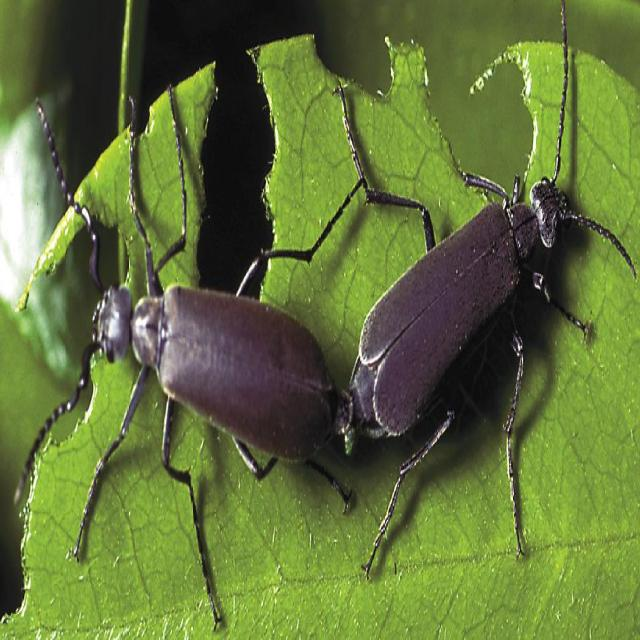BlisterBeetle-Adult-: (27, 39, 342, 609), (334, 48, 600, 578)
